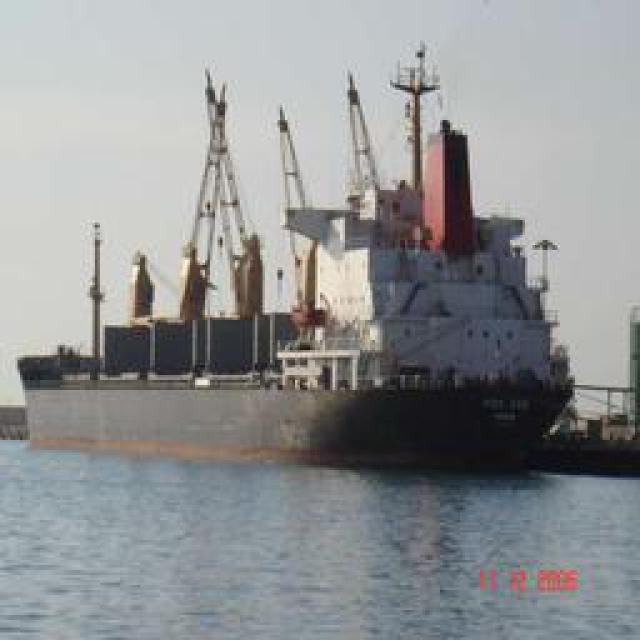Ship: (246, 42, 566, 462)
